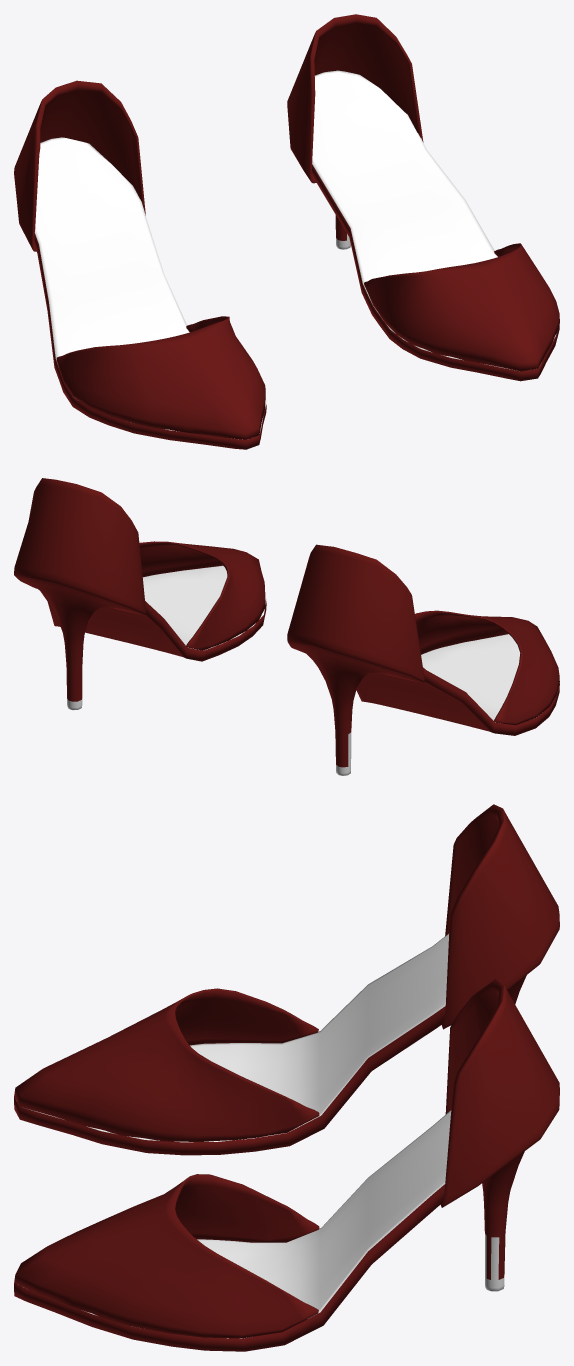
Rendered from SHOES.fbx.
The picture shows the model from 3 angles, top to bottom: view 1: azimuth 30°, elevation 25°; view 2: azimuth 150°, elevation 25°; view 3: azimuth 270°, elevation 25°; orthographic projection. The views are drawn at different scales.
Visible parts, largest first — view 1: LEFT SHOEMAIN, RIGHT SHOESMAIN, RIGHT SHOENOSE, LEFT SHOESNOSE, LEFT SHOESHEEL, RIGHT SHOEHEELS; view 2: RIGHT SHOEHEELS, LEFT SHOESHEEL, RIGHT SHOESMAIN, LEFT SHOEMAIN, RIGHT SHOENOSE, LEFT SHOESNOSE; view 3: LEFT SHOESNOSE, RIGHT SHOENOSE, RIGHT SHOESMAIN, LEFT SHOEMAIN, LEFT SHOESHEEL, RIGHT SHOEHEELS.
Boxes of the visible parts, x1,y1,x2,y2 form: LEFT SHOEMAIN: (312,70,559,381); RIGHT SHOESMAIN: (34,137,266,449); RIGHT SHOENOSE: (56,316,265,439); LEFT SHOESNOSE: (364,243,559,371); LEFT SHOESHEEL: (287,14,423,249); RIGHT SHOEHEELS: (14,80,145,251); RIGHT SHOEHEELS: (287,544,424,775); LEFT SHOESHEEL: (14,478,145,710); RIGHT SHOESMAIN: (356,634,559,735); LEFT SHOEMAIN: (40,565,266,661); RIGHT SHOENOSE: (415,610,559,725); LEFT SHOESNOSE: (139,541,265,650); LEFT SHOESNOSE: (14,1174,319,1338); RIGHT SHOENOSE: (14,988,319,1141); RIGHT SHOESMAIN: (14,933,449,1155); LEFT SHOEMAIN: (14,1110,451,1351); LEFT SHOESHEEL: (440,979,559,1291); RIGHT SHOEHEELS: (442,804,559,1029).
Size of the model in its own units: 0.3791 by 0.179 by 0.2948.
